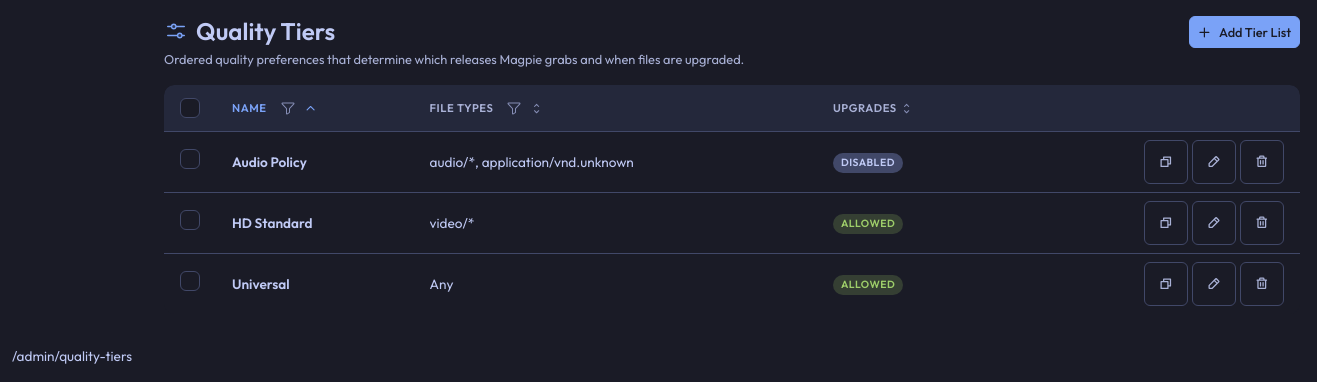
Test: QualityTiersPage › sorts by standard table columns
expect the row "HD Standard video/* Allowed" is shown: met, box [164,193,1300,254]
What coordinates should you click on to do the following:
click the button with aria-label "Sort by Upgrades"
I would click on:
 (872, 108)
Its box is [833,101,912,115].
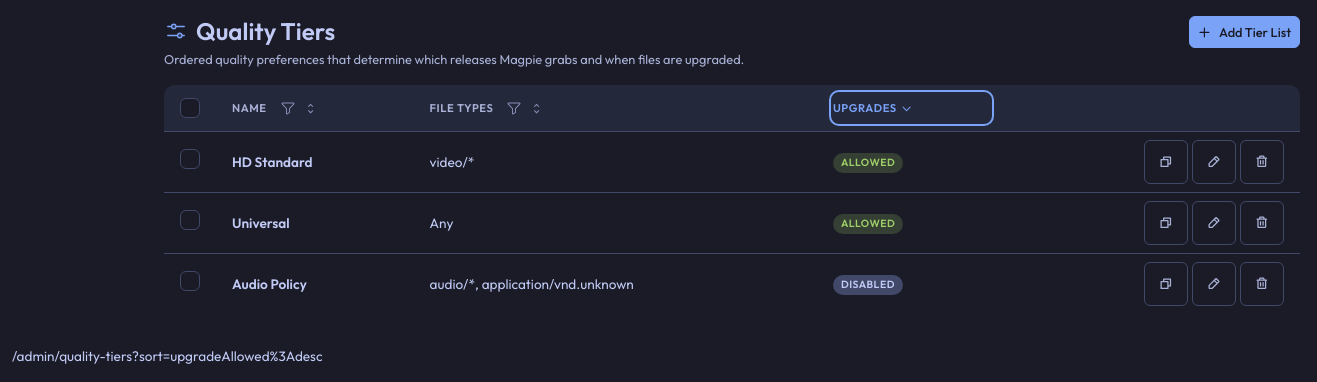
expect the text with test id "location" shows "sort=upgradeAllowed%3Adesc": met, box [12,347,322,365]
